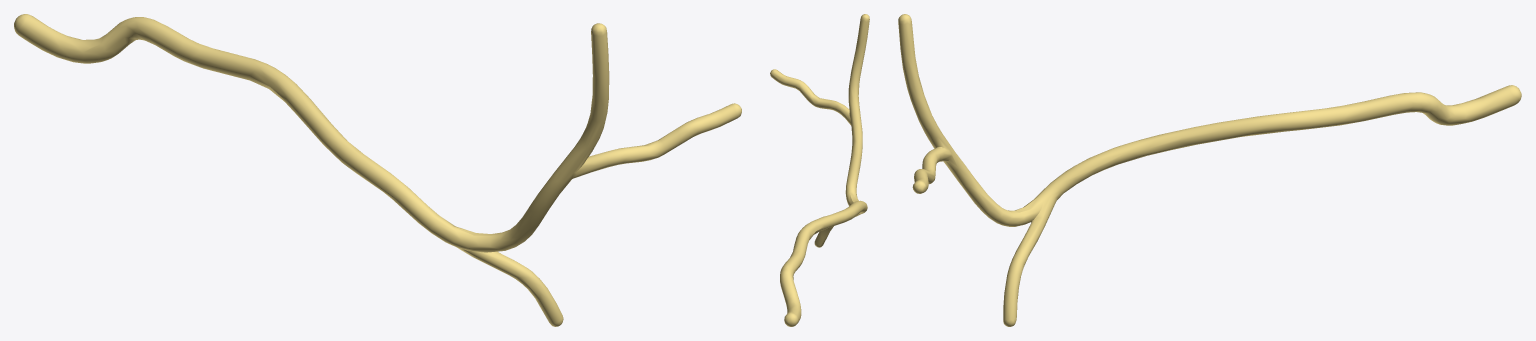
Rendered from fma52643_fj1377.glb.
The picture shows the model from 3 angles, left to right: view 1: azimuth 30°, elevation 25°; view 2: azimuth 150°, elevation 25°; view 3: azimuth 270°, elevation 25°; orthographic projection. The views are drawn at different scales.
Visible parts, largest first — view 1: FMA52643_FJ1377; view 2: FMA52643_FJ1377; view 3: FMA52643_FJ1377.
Boxes of the visible parts, x1,y1,x2,y2 form: FMA52643_FJ1377: (14, 14, 741, 326); FMA52643_FJ1377: (770, 14, 869, 326); FMA52643_FJ1377: (898, 14, 1521, 326).
Bounding box in the file's own units: 0.0232 × 0.0202 × 0.0374.
